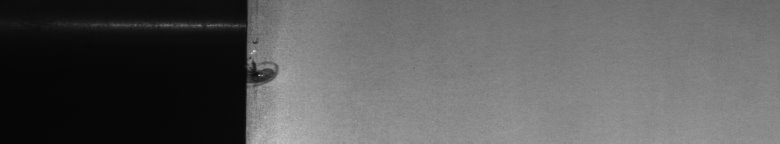hb: (256, 4, 284, 96)
